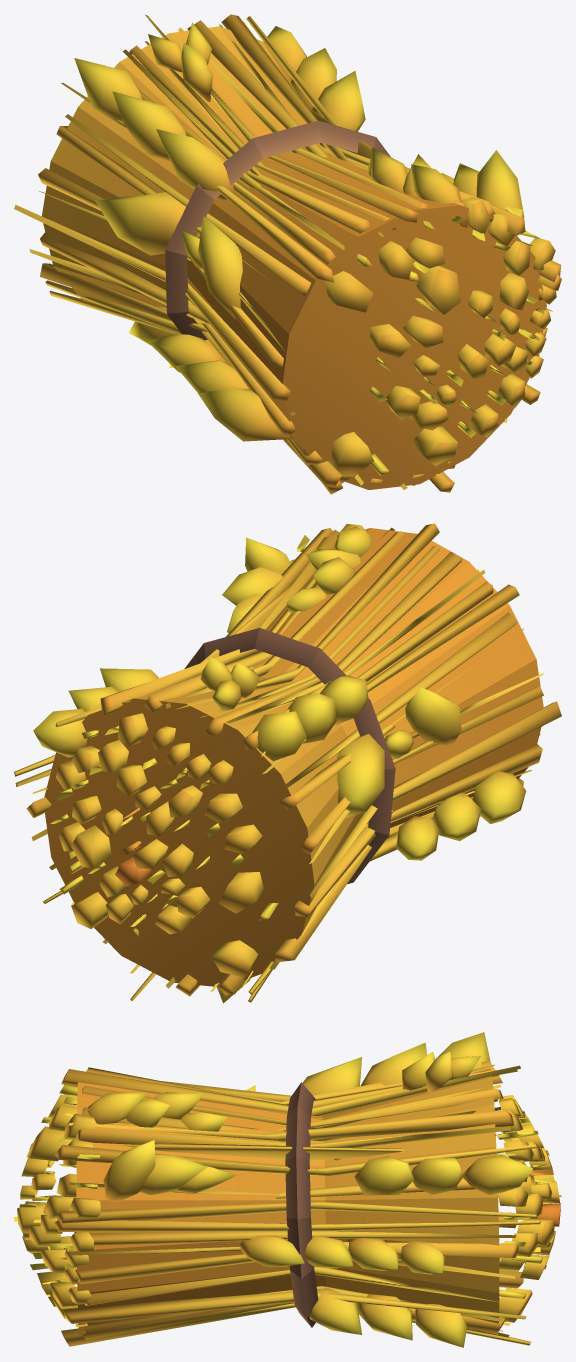
The model's file is bale.fbx.
3 renders of one model, top to bottom at view 1: azimuth 30°, elevation 25°; view 2: azimuth 150°, elevation 25°; view 3: azimuth 270°, elevation 25°, orthographic. The views are drawn at different scales.
Visible parts, largest first — view 1: Bale; view 2: Bale; view 3: Bale.
Boxes of the visible parts, left/top/right/bottom form: Bale: left=14, top=14, right=561, bottom=494; Bale: left=14, top=523, right=561, bottom=1003; Bale: left=14, top=1032, right=561, bottom=1347.
Bounding box in the file's own units: 0.7435 × 0.7519 × 1.33.
